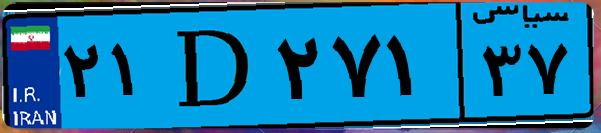1: (385, 28, 445, 110), (110, 28, 158, 98)
2: (270, 28, 330, 110), (57, 26, 110, 100)
3: (475, 38, 525, 113)
7: (330, 28, 385, 110), (525, 38, 570, 115)
D: (158, 12, 270, 120)
